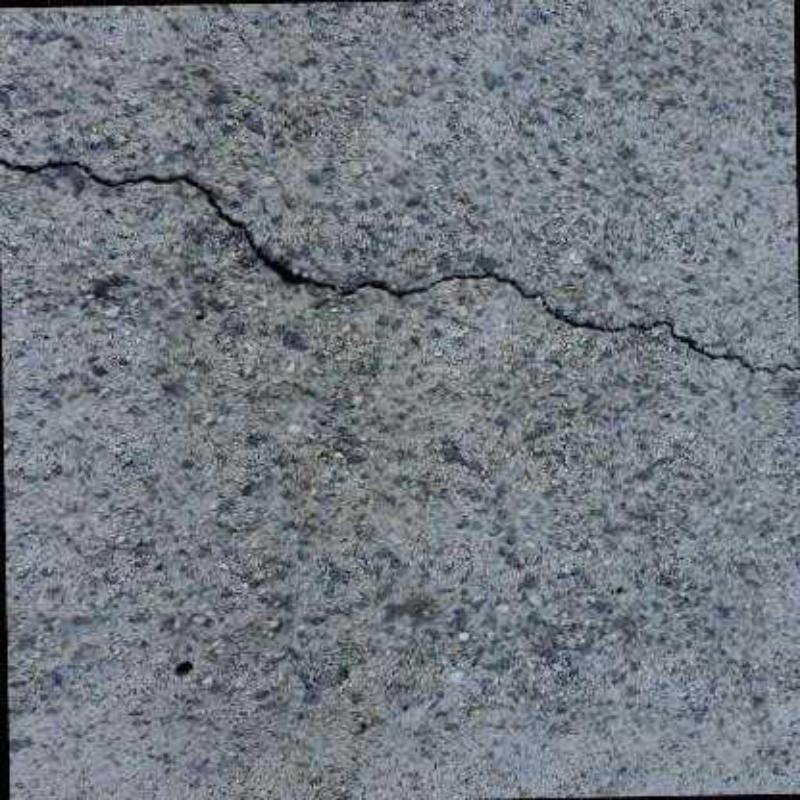crack: (0, 149, 800, 378)
